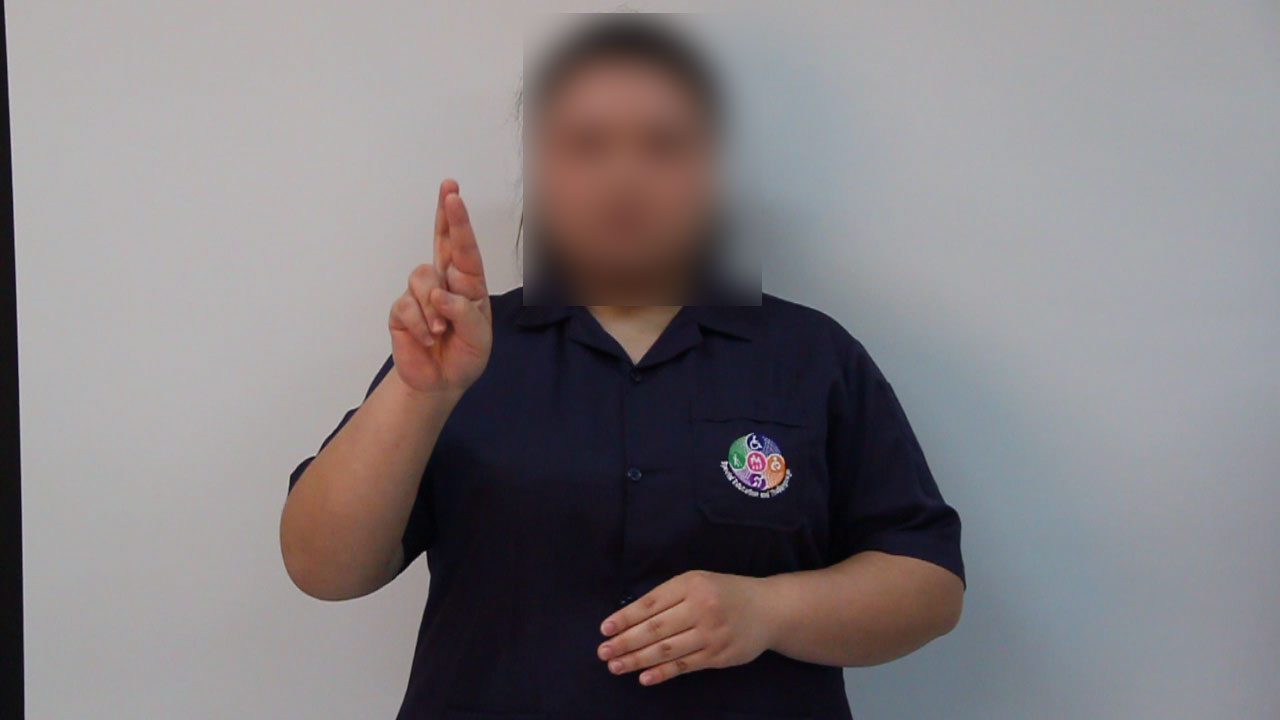rao: (348, 169, 513, 392)
